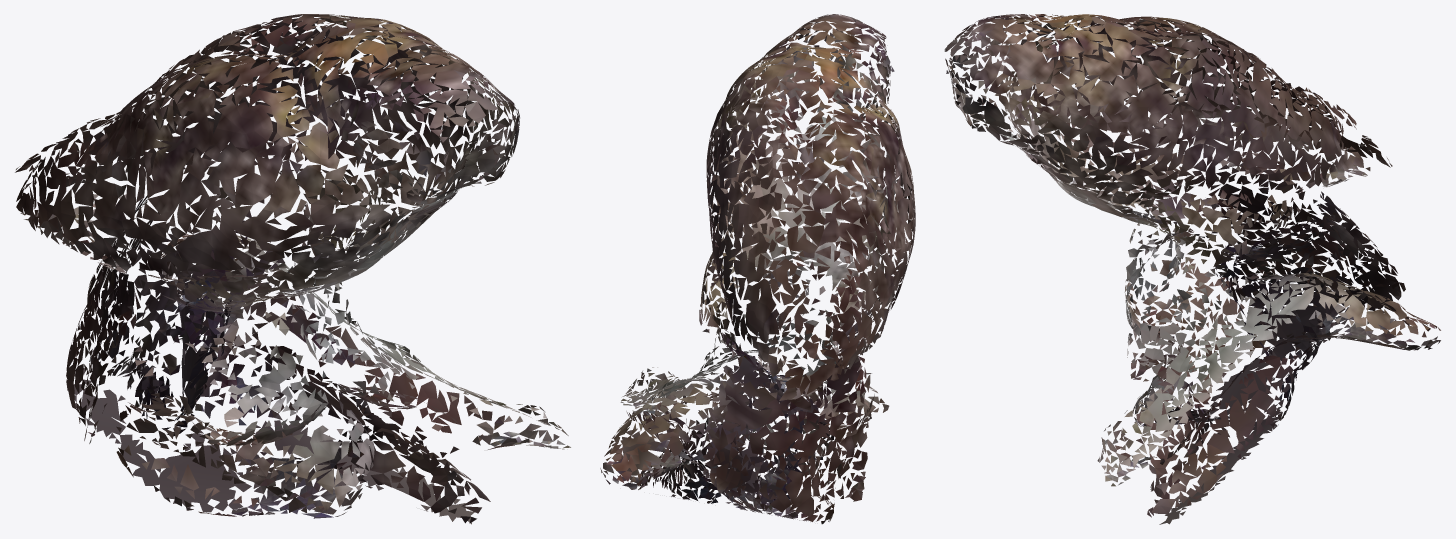
File: ave_great_horned_owl.glb
3 views of the same model, side by side, from view 1: azimuth 30°, elevation 25°; view 2: azimuth 150°, elevation 25°; view 3: azimuth 270°, elevation 25° (orthographic). The views are drawn at different scales.
Visible parts, largest first — view 1: material_0_002-material; view 2: material_0_002-material; view 3: material_0_002-material.
Part boxes in pixels (x1=…): material_0_002-material: x1=15, y1=14, x2=570, y2=524; material_0_002-material: x1=600, y1=14, x2=915, y2=524; material_0_002-material: x1=944, y1=14, x2=1440, y2=524.
Size of the model in its own units: 0.5345 by 0.6994 by 0.7039.
Materials: 1 (1 with a texture image).
